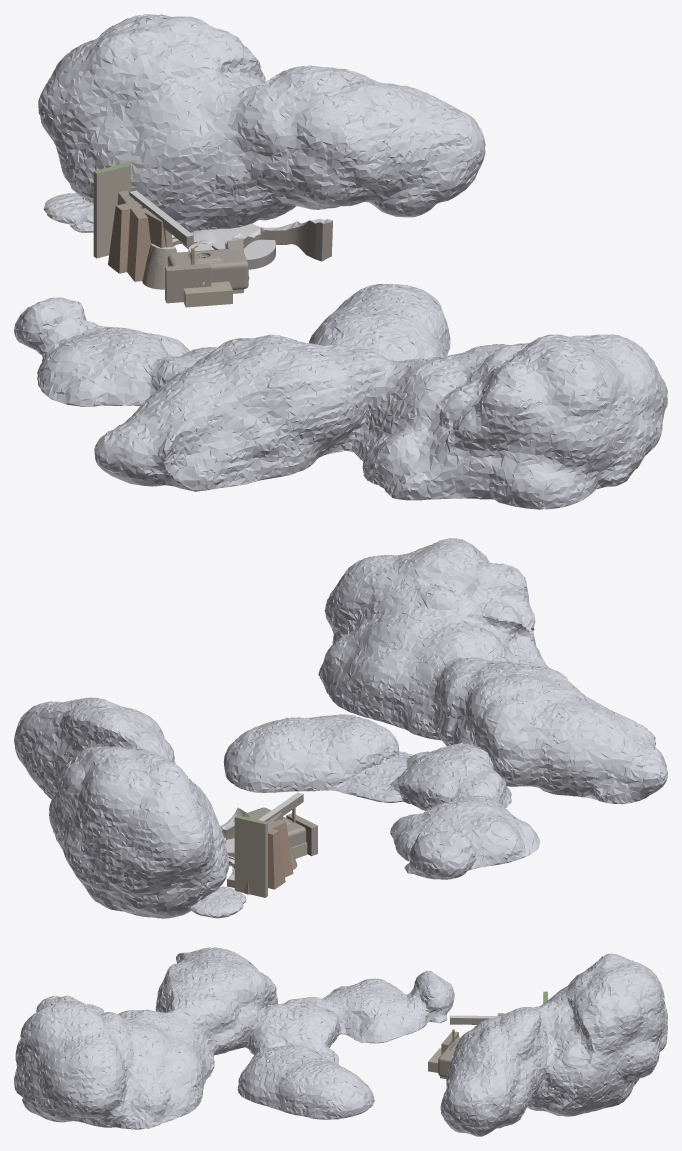
Rendered from BstBaked.glb.
The picture shows the model from 3 angles, top to bottom: view 1: azimuth 30°, elevation 25°; view 2: azimuth 150°, elevation 25°; view 3: azimuth 270°, elevation 25°; orthographic projection. The views are drawn at different scales.
Visible parts, largest first — view 1: BstBaked_cloud, BstBaked_terrain; view 2: BstBaked_cloud, BstBaked_terrain; view 3: BstBaked_cloud, BstBaked_terrain.
Boxes of the visible parts, x1=… form: BstBaked_cloud: x1=14, y1=14, x2=667, y2=509; BstBaked_terrain: x1=93, y1=162, x2=332, y2=307; BstBaked_cloud: x1=14, y1=538, x2=667, y2=918; BstBaked_terrain: x1=220, y1=792, x2=317, y2=897; BstBaked_cloud: x1=14, y1=947, x2=667, y2=1136; BstBaked_terrain: x1=428, y1=991, x2=548, y2=1078.
Size of the model in its own units: 2209 by 653 by 3117.
